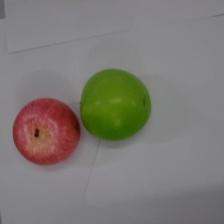green: (81, 69, 151, 141)
red: (12, 97, 80, 165)
